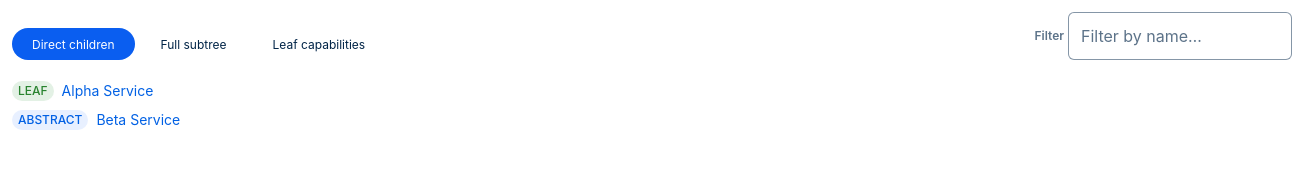
Test: CapabilityHierarchyExplorer › filter input › shows no-match message when filter yields no children
This screenshot has width=1304, height=193.
In the search field named "filter capabilities by name": (1180, 36) [1068,12,1292,60], type "zzznomatch"
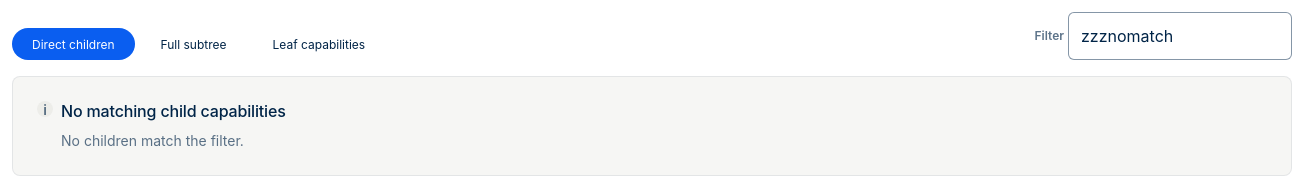
Check: the text "No children match the filter." is shown, box [61,132,244,149]
